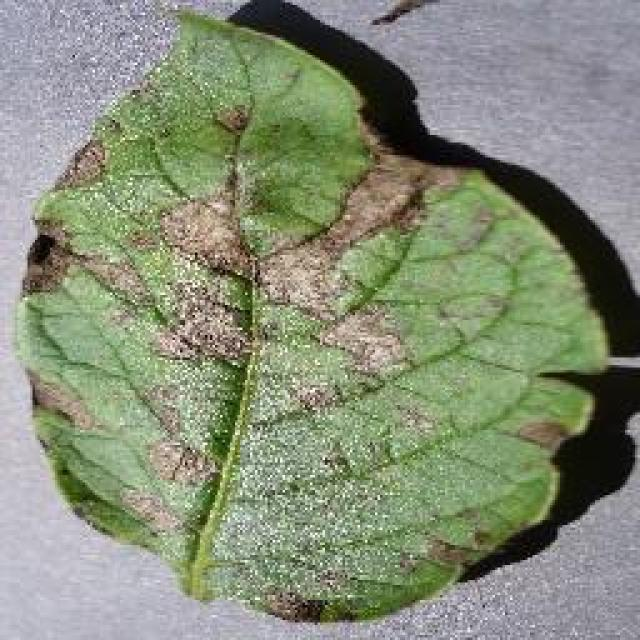early_blight: (10, 5, 612, 627)
